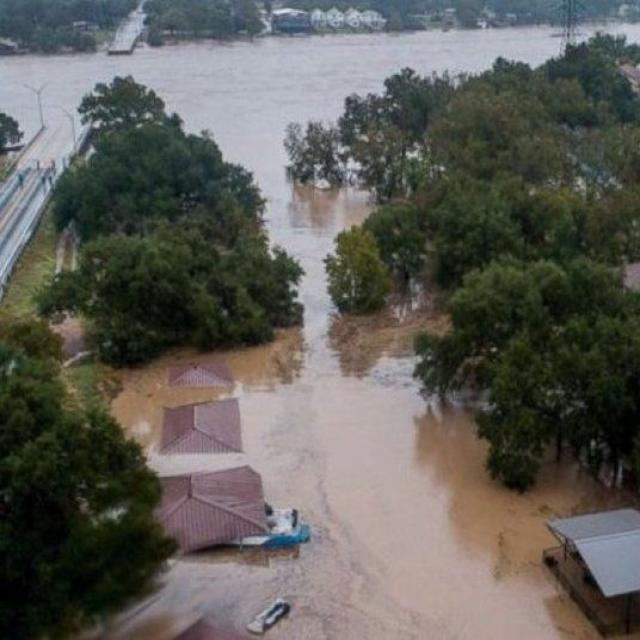flooded_areas: (48, 27, 547, 638)
